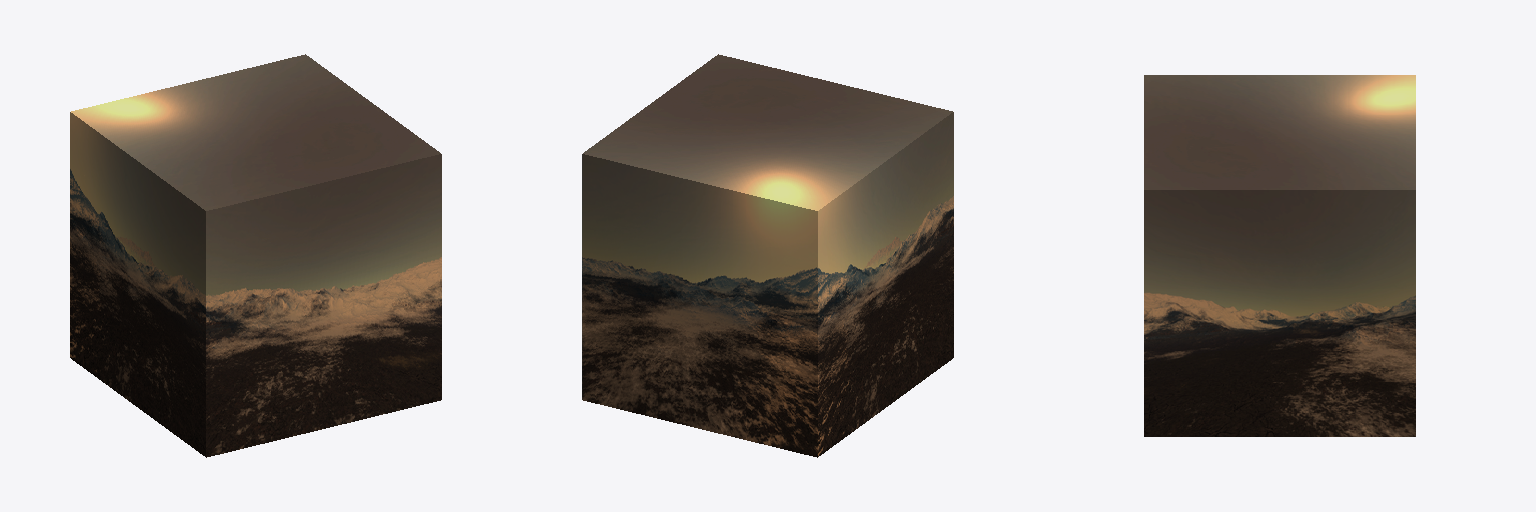
3 views of the same model, side by side, from view 1: azimuth 30°, elevation 25°; view 2: azimuth 150°, elevation 25°; view 3: azimuth 270°, elevation 25° (orthographic).
Parts seen in each view (by area): view 1: pCube1; view 2: pCube1; view 3: pCube1.
Part boxes in pixels (x1,y1,x2,y2): pCube1: (70, 54, 441, 457); pCube1: (582, 54, 953, 457); pCube1: (1144, 75, 1415, 436).
Bounding box in the file's own units: 18.38 × 18.38 × 18.38.
Materials: 1 (1 with a texture image).